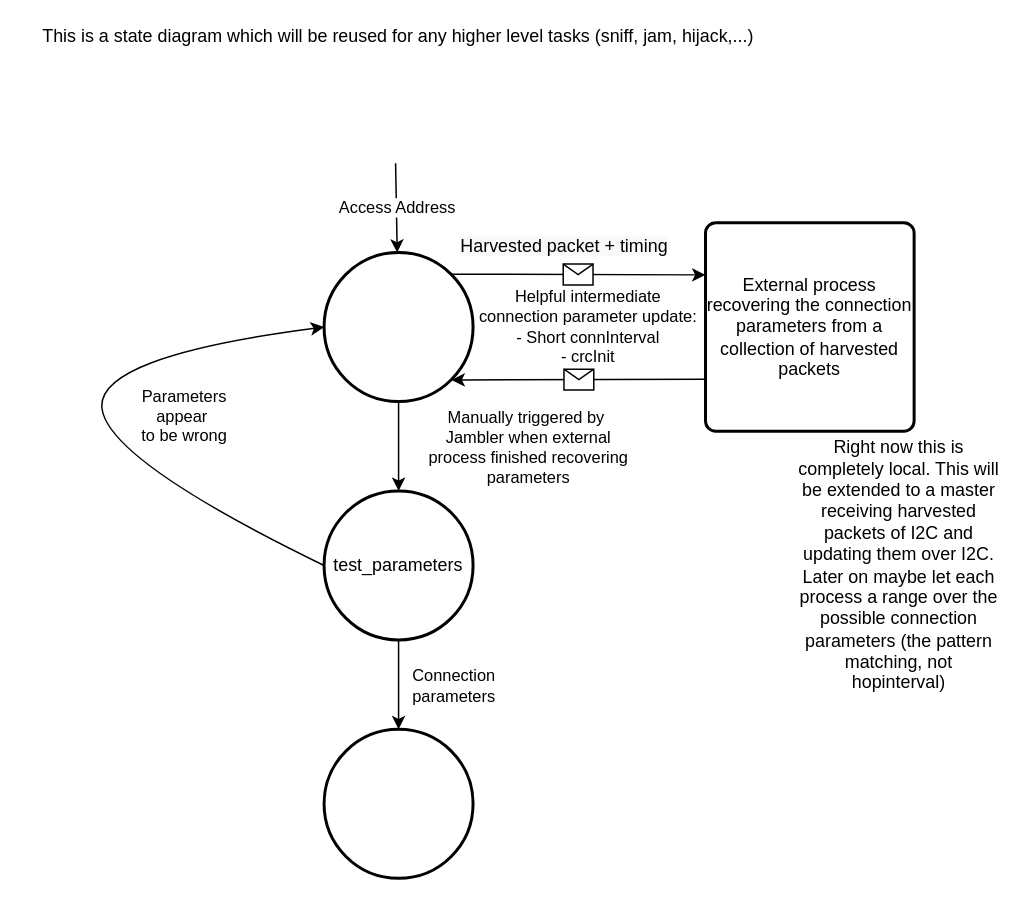
The diagram is 1028 pixels wide and 904 high, and some of its shapes have lost their labels. Each missing label, with the centre of its shape:
"harvest_aa _packets" belongs at pixel 398 326.
"next state in task" belongs at pixel 398 803.
